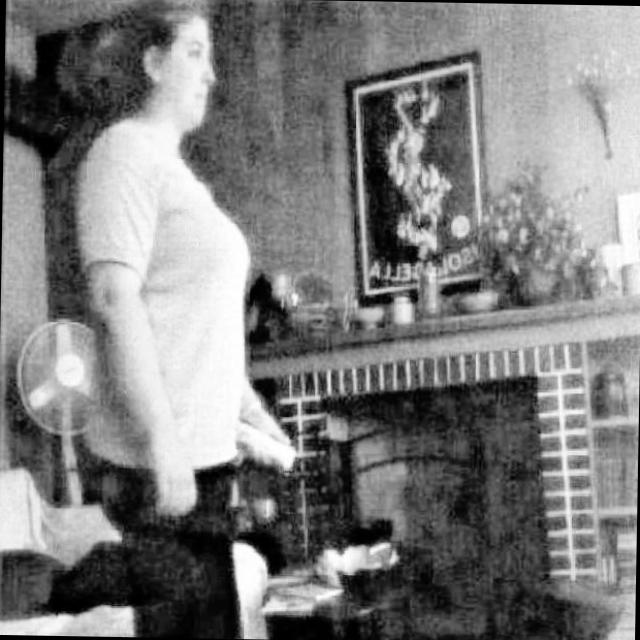Person: (62, 0, 300, 639)
